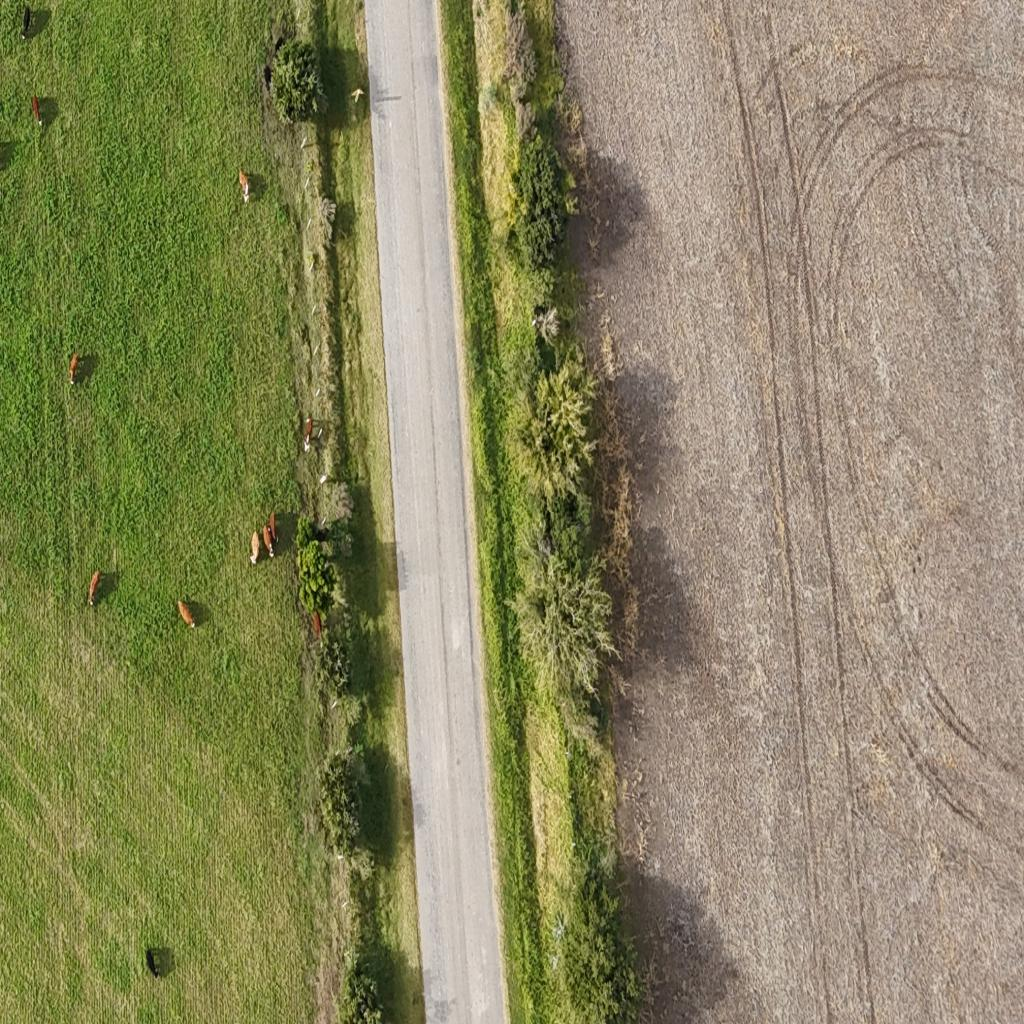cow: (178, 600, 195, 630), (88, 571, 100, 607), (262, 523, 274, 558), (146, 947, 159, 978), (21, 5, 31, 43), (239, 169, 249, 206), (250, 530, 260, 566), (303, 416, 312, 452), (269, 510, 278, 546), (312, 610, 322, 642), (273, 36, 285, 62), (69, 353, 79, 383), (262, 64, 272, 92), (32, 94, 40, 128)
